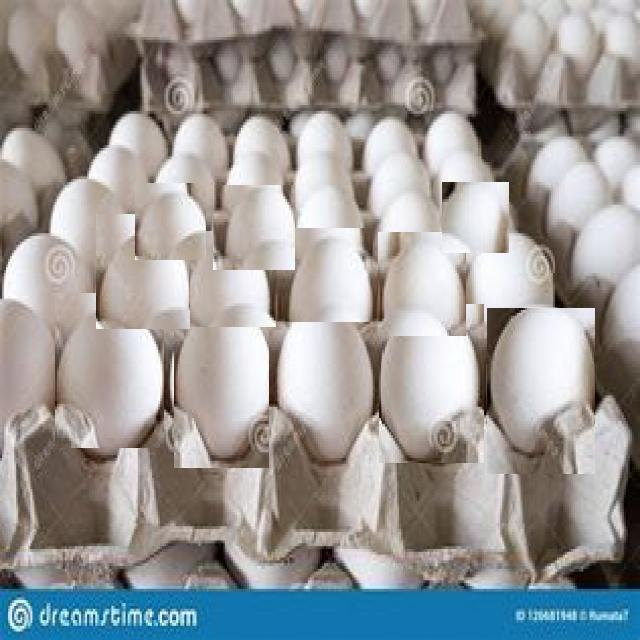Egg: (487, 308, 595, 474), (278, 300, 382, 470), (55, 293, 164, 448), (379, 304, 484, 463), (174, 299, 269, 468), (96, 214, 190, 329), (470, 222, 562, 330), (378, 232, 466, 336), (186, 232, 276, 328), (283, 228, 373, 322), (213, 185, 295, 270), (284, 176, 372, 254), (135, 183, 206, 260), (442, 182, 509, 253)
